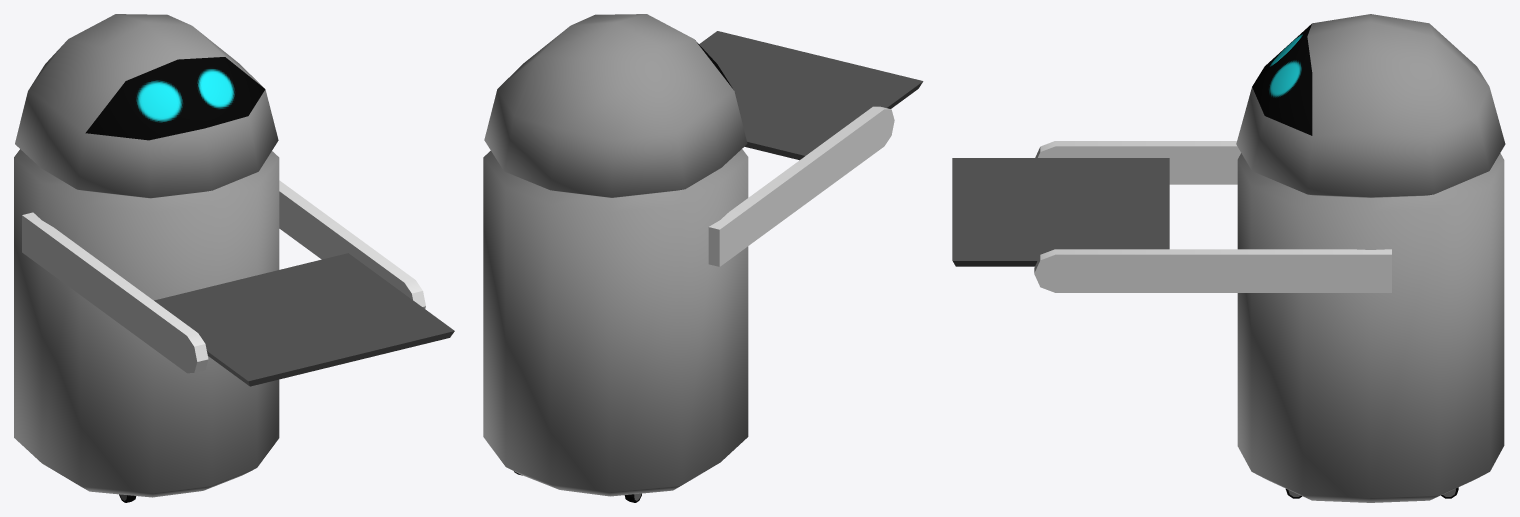
Rendered from robot.fbx.
The picture shows the model from 3 angles, left to right: view 1: azimuth 30°, elevation 25°; view 2: azimuth 150°, elevation 25°; view 3: azimuth 270°, elevation 25°; orthographic projection. The views are drawn at different scales.
Visible parts, largest first — view 1: Roundcube.001, Roundcube, Plane.014, Cube.001, Cube; view 2: Roundcube.001, Roundcube, Plane.014, Cube.001; view 3: Roundcube.001, Roundcube, Plane.014, Cube, Cube.001.
Part boxes in pixels (x1,y1,x2,y2): Roundcube.001: [14, 149, 279, 497]; Roundcube: [15, 14, 278, 198]; Plane.014: [154, 253, 454, 386]; Cube.001: [22, 212, 208, 373]; Cube: [279, 180, 425, 308]; Roundcube.001: [483, 149, 748, 496]; Roundcube: [484, 14, 747, 197]; Plane.014: [699, 31, 923, 160]; Cube.001: [708, 106, 894, 266]; Roundcube.001: [1237, 153, 1504, 502]; Roundcube: [1236, 14, 1505, 197]; Plane.014: [952, 158, 1169, 266]; Cube: [1034, 249, 1391, 292]; Cube.001: [1035, 141, 1240, 184].
Bounding box in the file's own units: 1.96 × 3.59 × 4.02.
5 materials, 1 textured.
